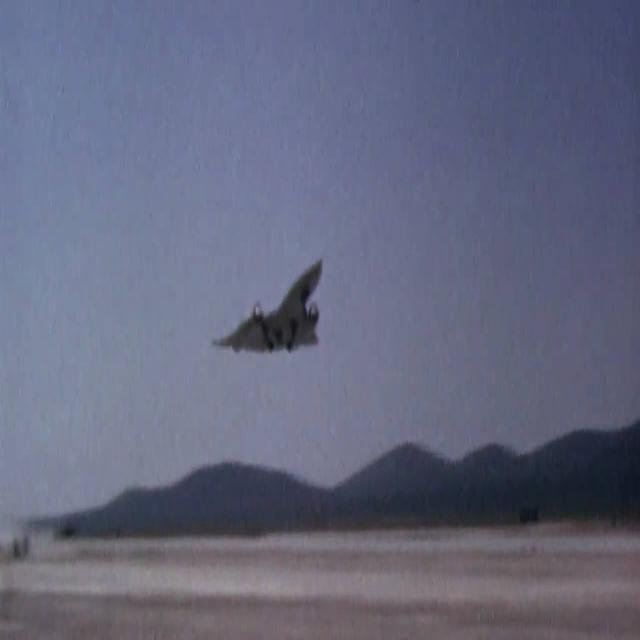MIL_Plane: (212, 256, 324, 353)
